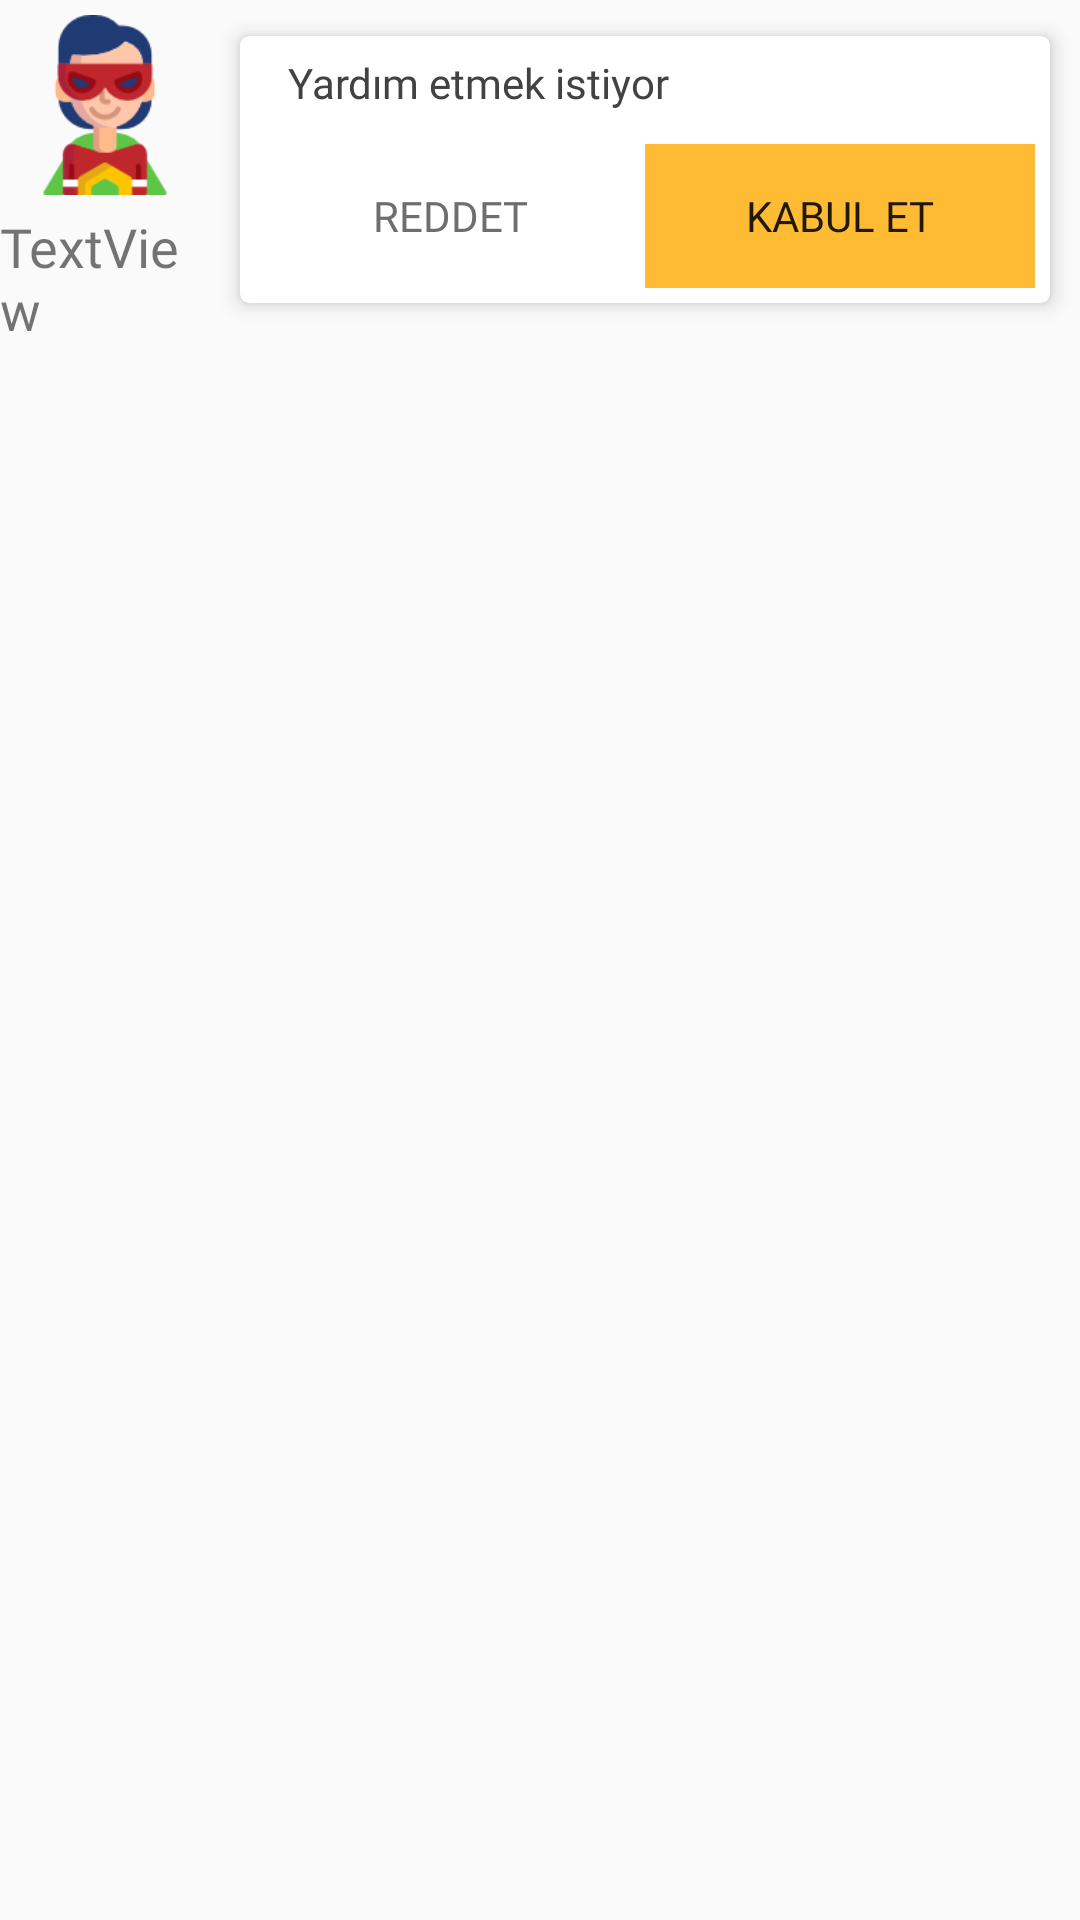

Locate icon controls on the screen. Image size 1080×1920, boxes as bbox(x1, y1, x2, y2).
superhero: bbox(43, 15, 167, 195)
